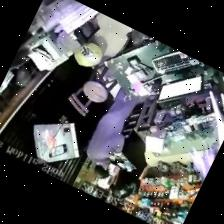person: (87, 88, 141, 178), (111, 137, 147, 206)
